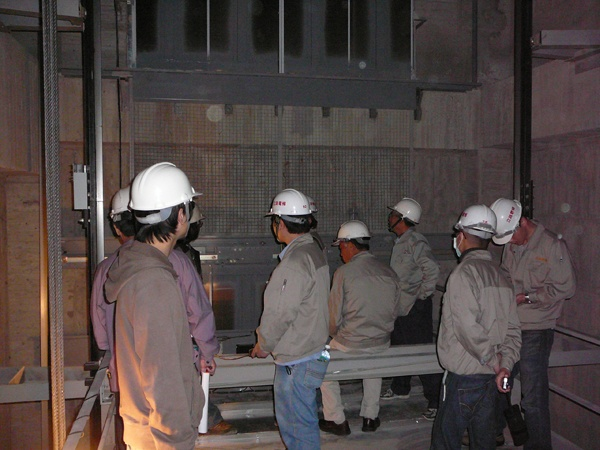white: (131, 158, 197, 245), (268, 188, 312, 245), (451, 204, 495, 257), (490, 197, 533, 249), (109, 184, 143, 242), (335, 218, 374, 264), (385, 198, 420, 236)
